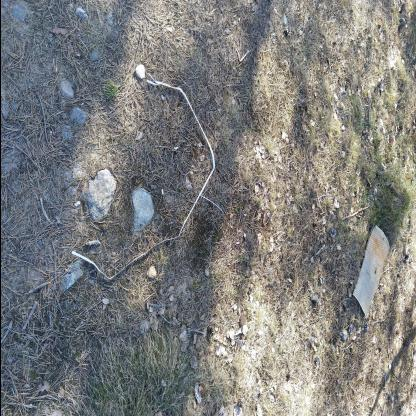karton: (352, 226, 390, 320)
